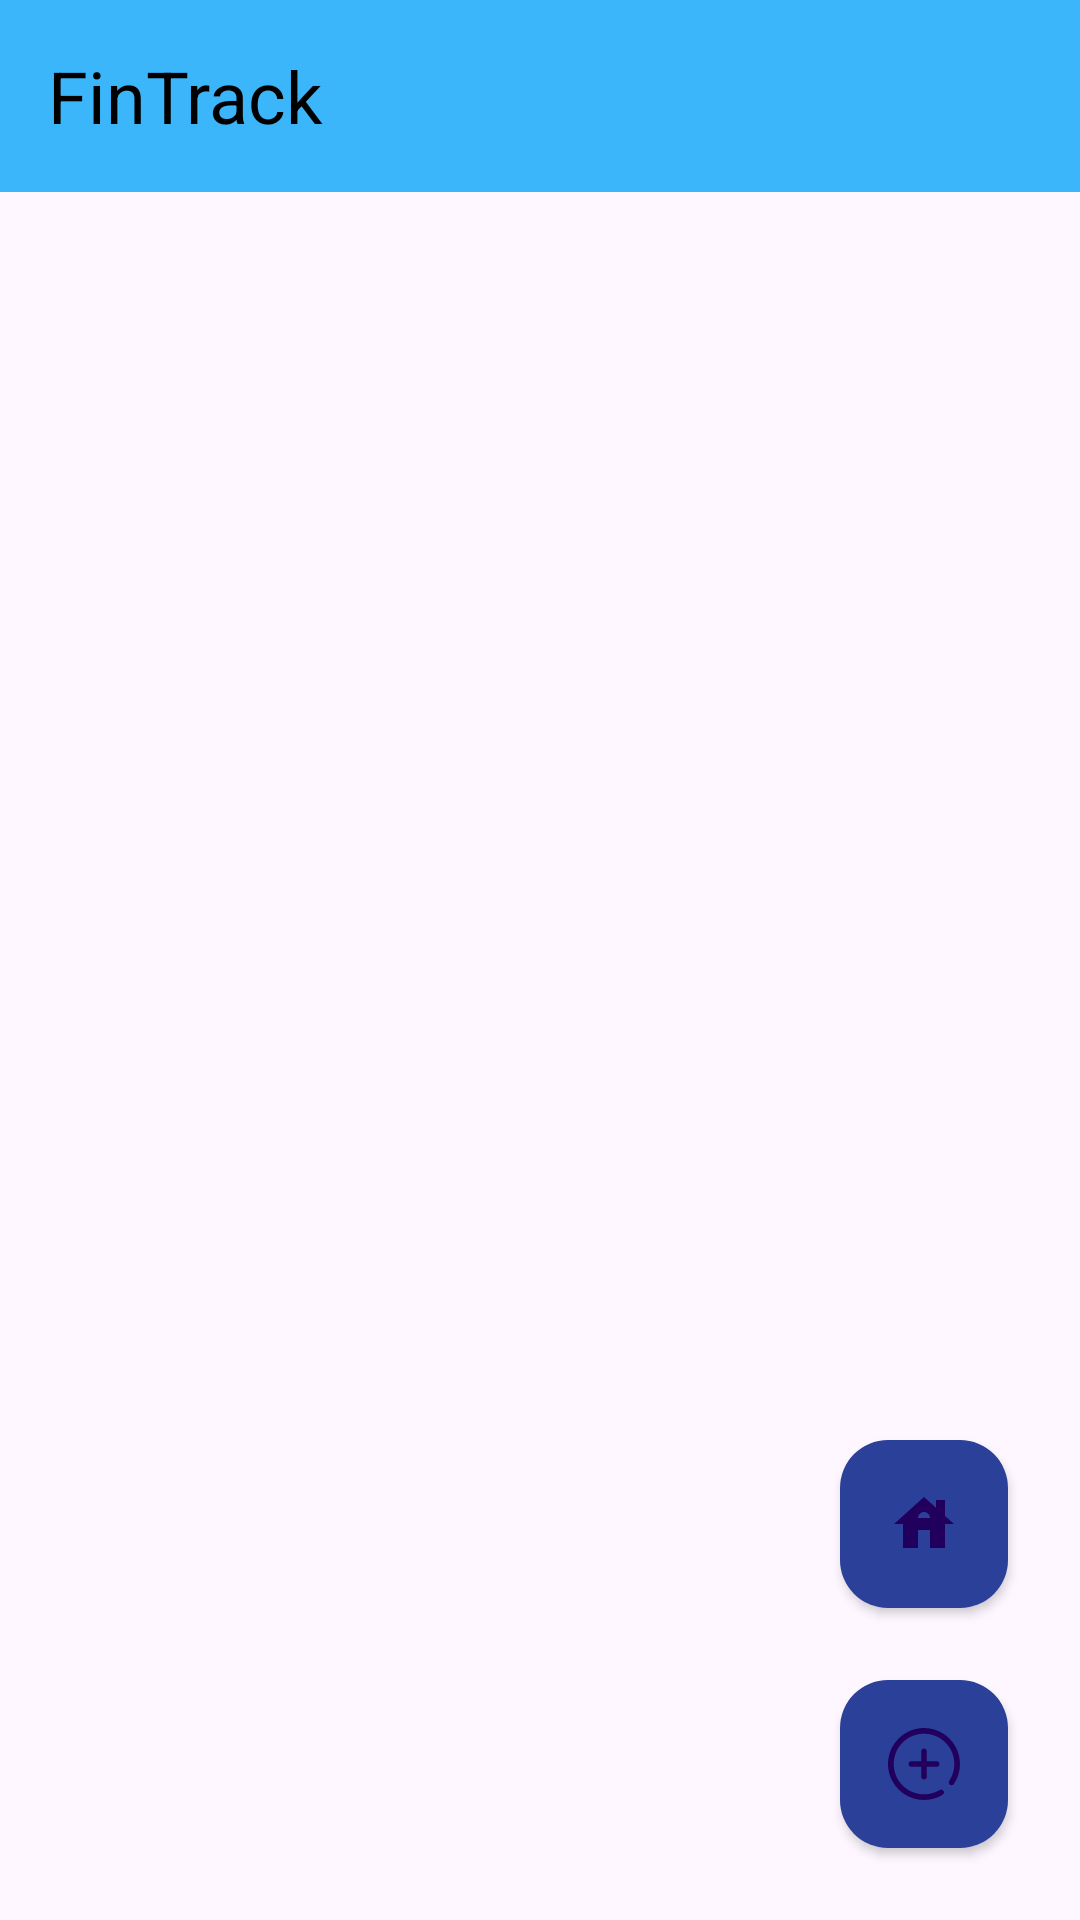

Icon click points for this 1080*1920 phone screenshot, format [x,y]:
addbutton: [924,1764]
home: [924,1524]
